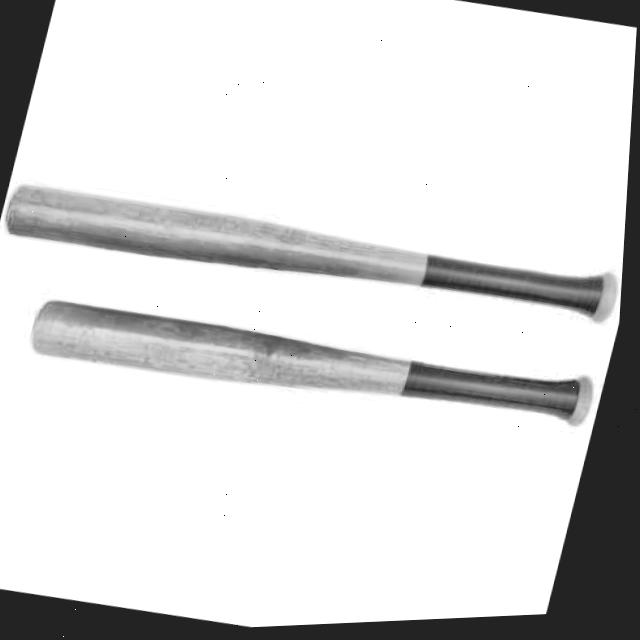tongkat pemukul: (0, 143, 630, 463)
